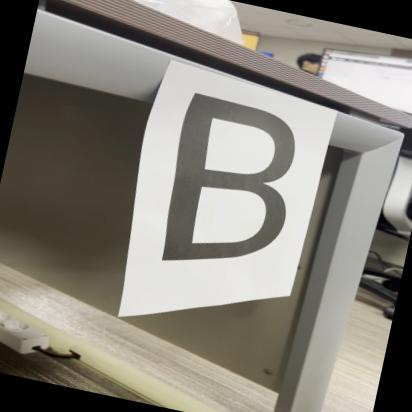seat: (148, 82, 346, 316)
